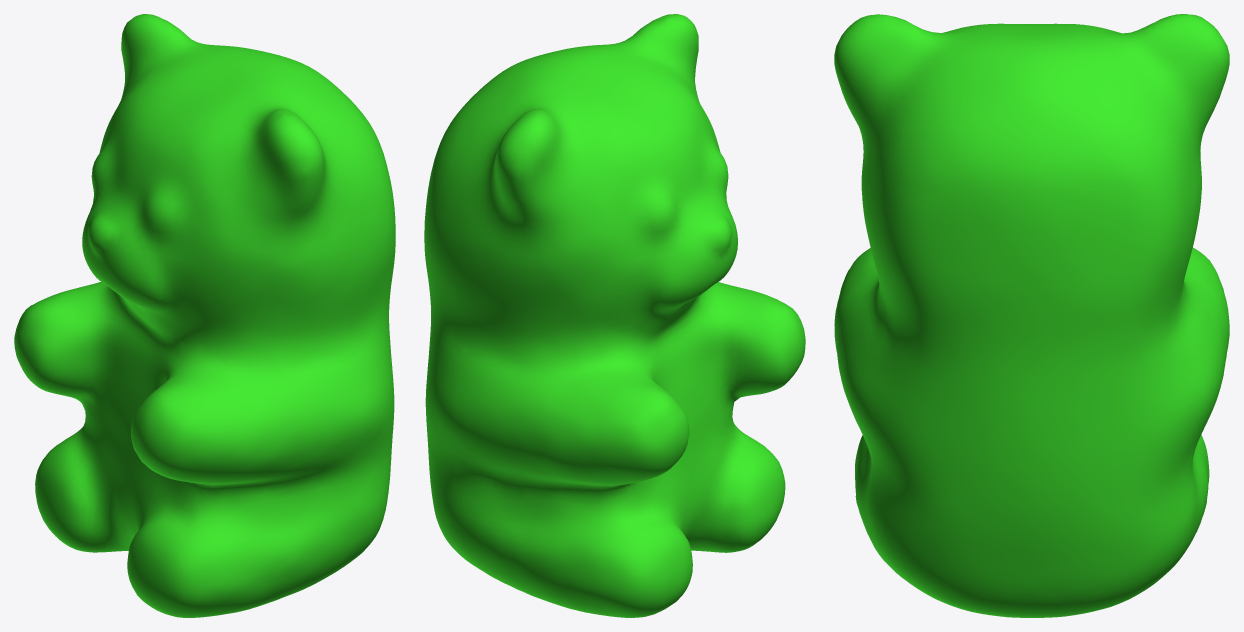
Rendered from Orsetto Verde new.fbx.
3 views of the same model, side by side, from view 1: azimuth 30°, elevation 25°; view 2: azimuth 150°, elevation 25°; view 3: azimuth 270°, elevation 25° (orthographic). The views are drawn at different scales.
Visible parts, largest first — view 1: gummy bear.150; view 2: gummy bear.150; view 3: gummy bear.150.
Boxes of the visible parts, left/top/right/bottom form: gummy bear.150: left=14, top=14, right=395, bottom=617; gummy bear.150: left=424, top=14, right=805, bottom=617; gummy bear.150: left=834, top=14, right=1229, bottom=617.
Size of the model in its own units: 389 by 659 by 422.
